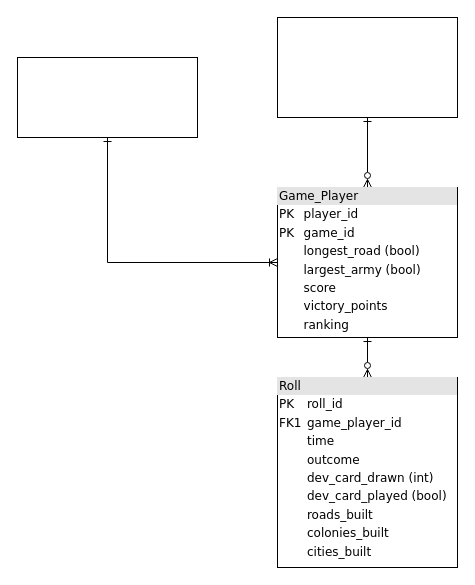
This 475x585 diagram has some shape labels left out. Each missing label, with the centre of its shape:
Game PK game_id start end: pixel 107 97
Player PK player_id name email avatar_url: pixel 367 67
